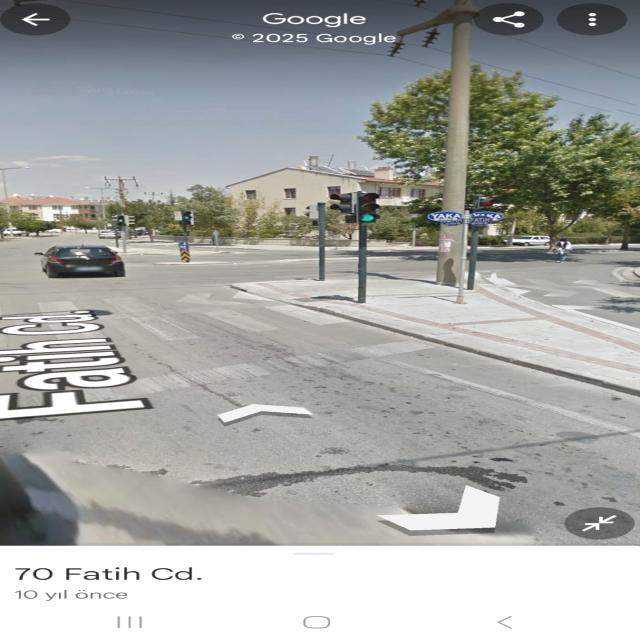yesil: (357, 192, 381, 223)
